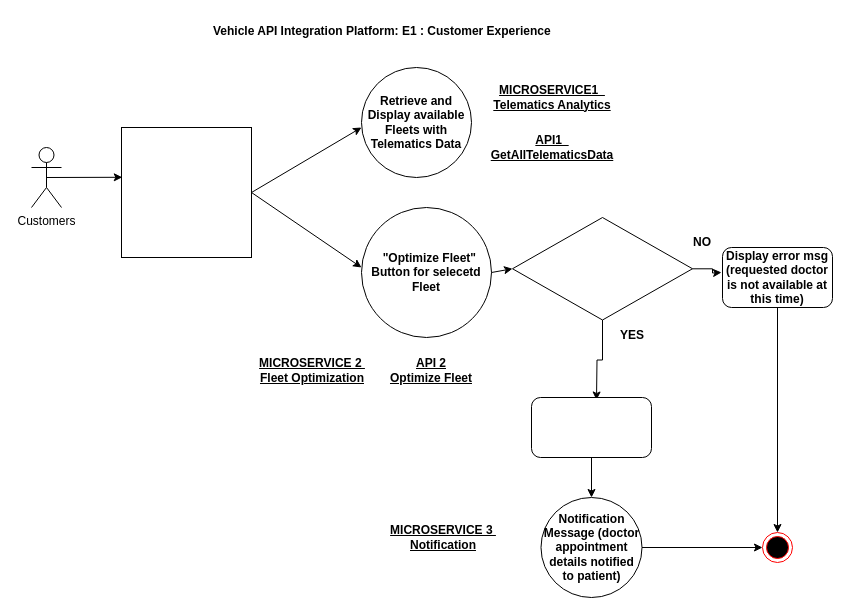
This 850x615 diagram has some shape labels left out. Here are the shapes that lost their labels. From the top down, the box of each, then its label:
(120, 126, 252, 258): Angular Frontend (E1: Customer Experience => Fleet Optimization)
(512, 216, 692, 320): vehicleTelematics. fuelEfficiency < 20
(530, 396, 652, 458): Optimize route for the selected Fleet
